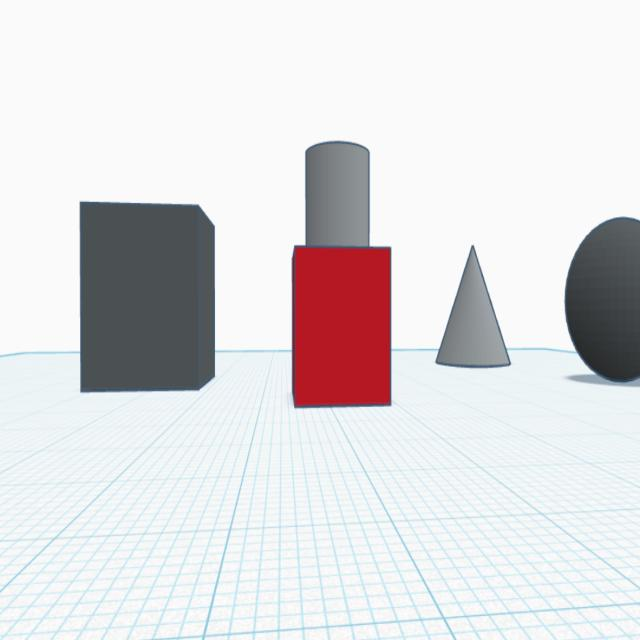cone: (434, 243, 512, 370)
cube: (78, 191, 220, 400), (287, 237, 394, 411)
